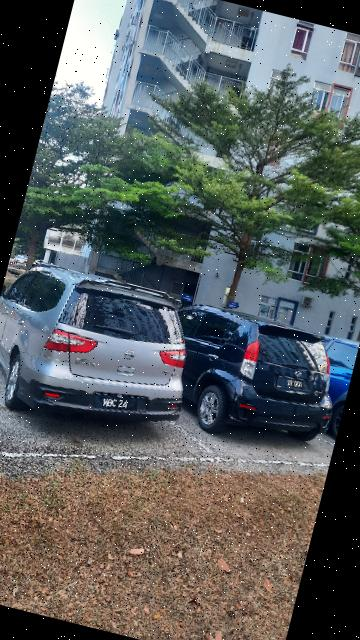License_Plate: (88, 388, 156, 423), (274, 373, 319, 400)
car: (1, 254, 211, 449), (147, 295, 353, 463)
